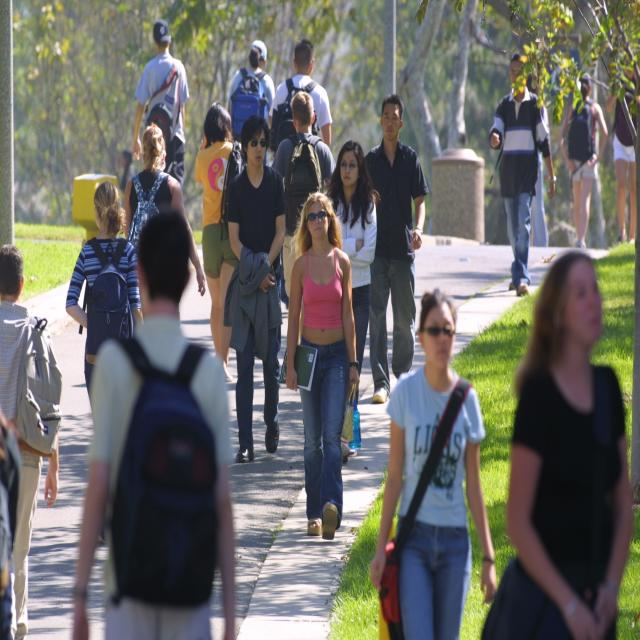body: (66, 202, 244, 640), (476, 250, 636, 640), (364, 280, 504, 640), (283, 185, 363, 550), (0, 236, 67, 640), (219, 111, 289, 466), (361, 92, 431, 406), (64, 179, 144, 404), (270, 89, 338, 348), (488, 51, 558, 297), (319, 138, 379, 416), (121, 120, 209, 300), (194, 101, 247, 383), (131, 16, 191, 193), (556, 71, 608, 249), (268, 39, 332, 153), (604, 55, 640, 245), (0, 415, 29, 640), (226, 38, 277, 145), (526, 69, 550, 246)
